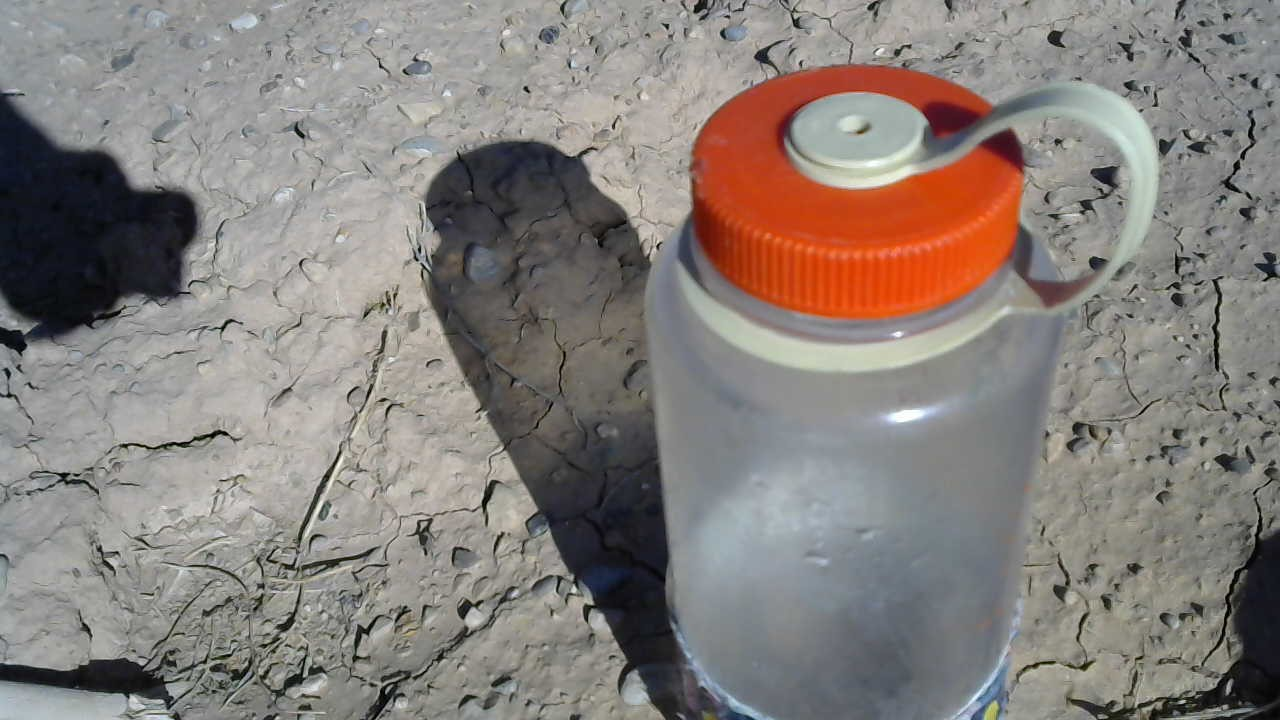bottle: (640, 53, 1167, 720)
